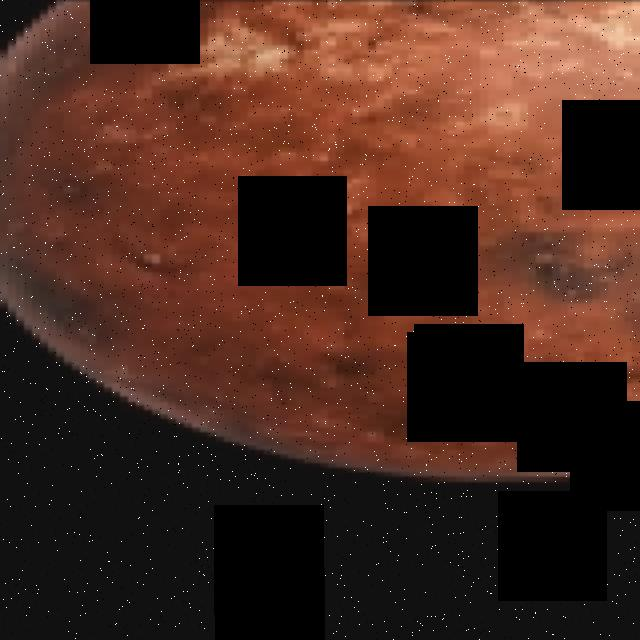Venus: (0, 0, 640, 480)
